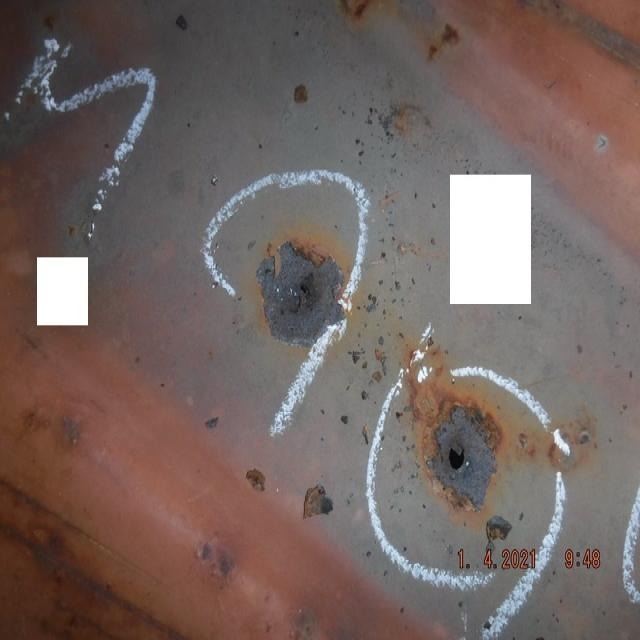hole: (256, 241, 349, 348), (425, 409, 501, 514)
